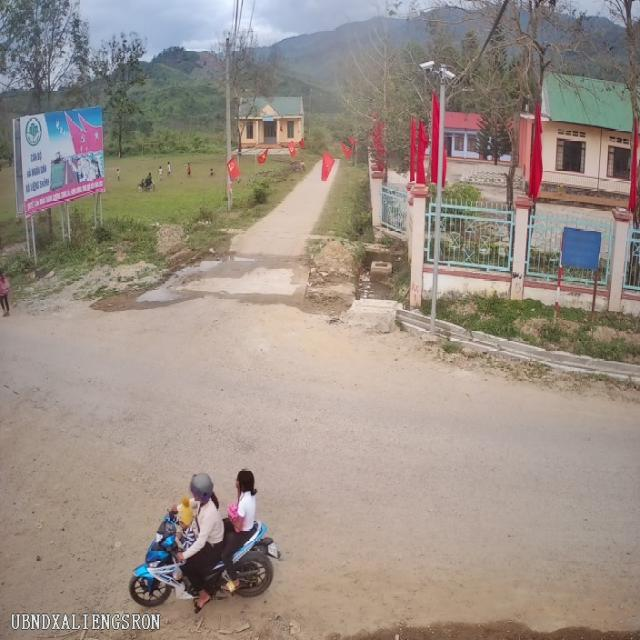helmet: (187, 470, 230, 504)
no_helmet: (235, 464, 263, 505)
